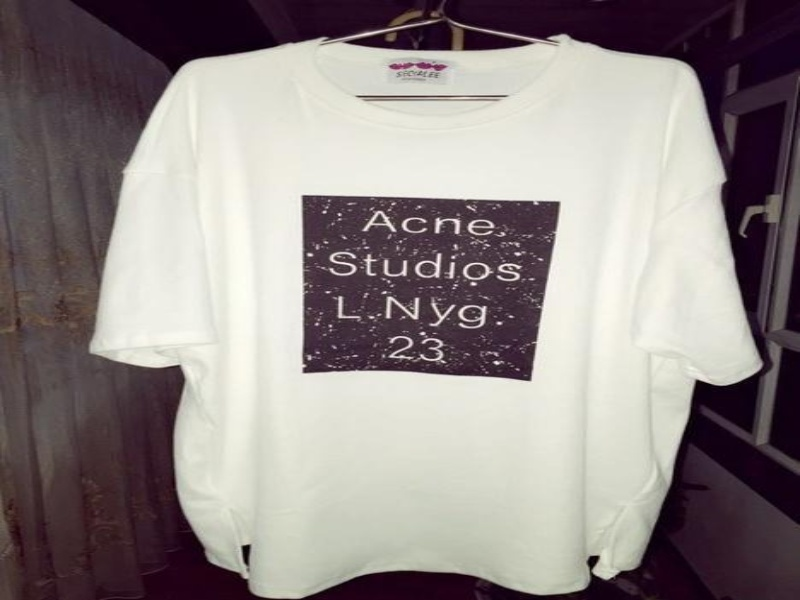long_sleeved_shirt: (85, 35, 764, 599)
